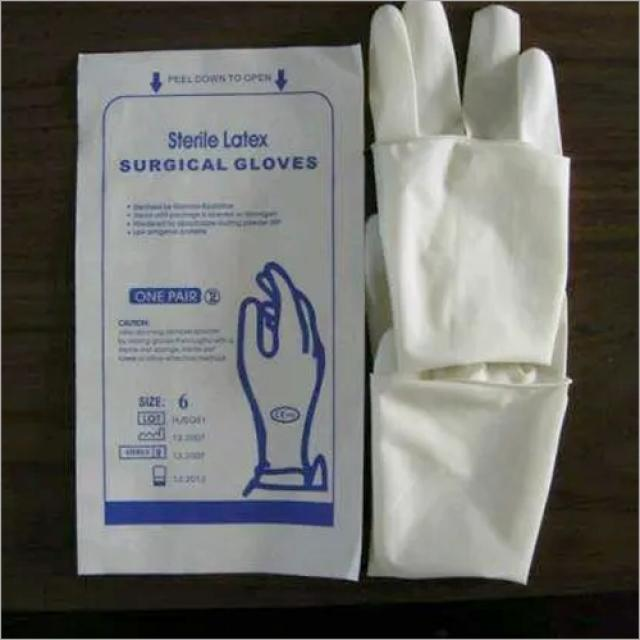Gloves: (364, 7, 590, 372), (236, 265, 334, 447)
